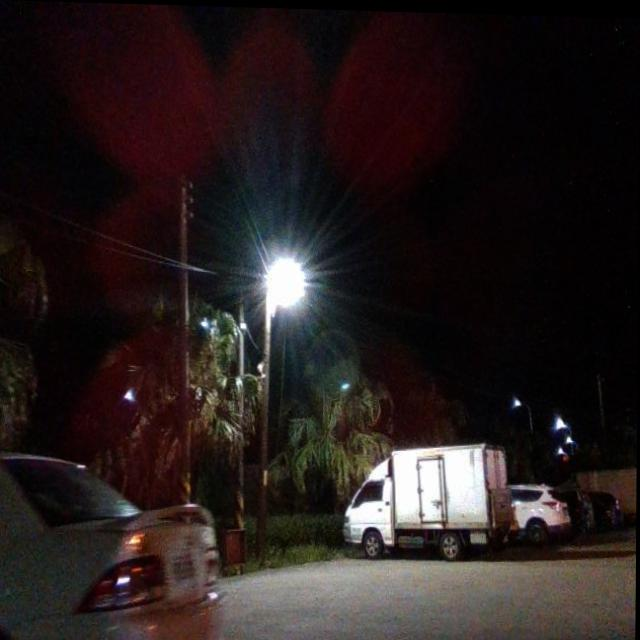pollute: (221, 527, 248, 576)
